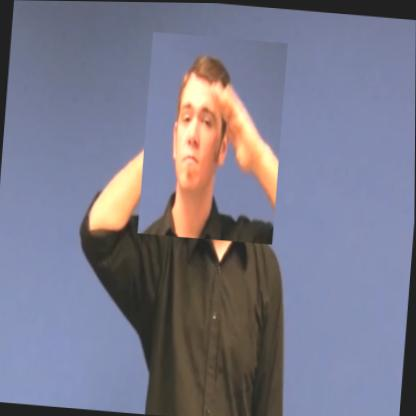Hello: (138, 31, 288, 244)
